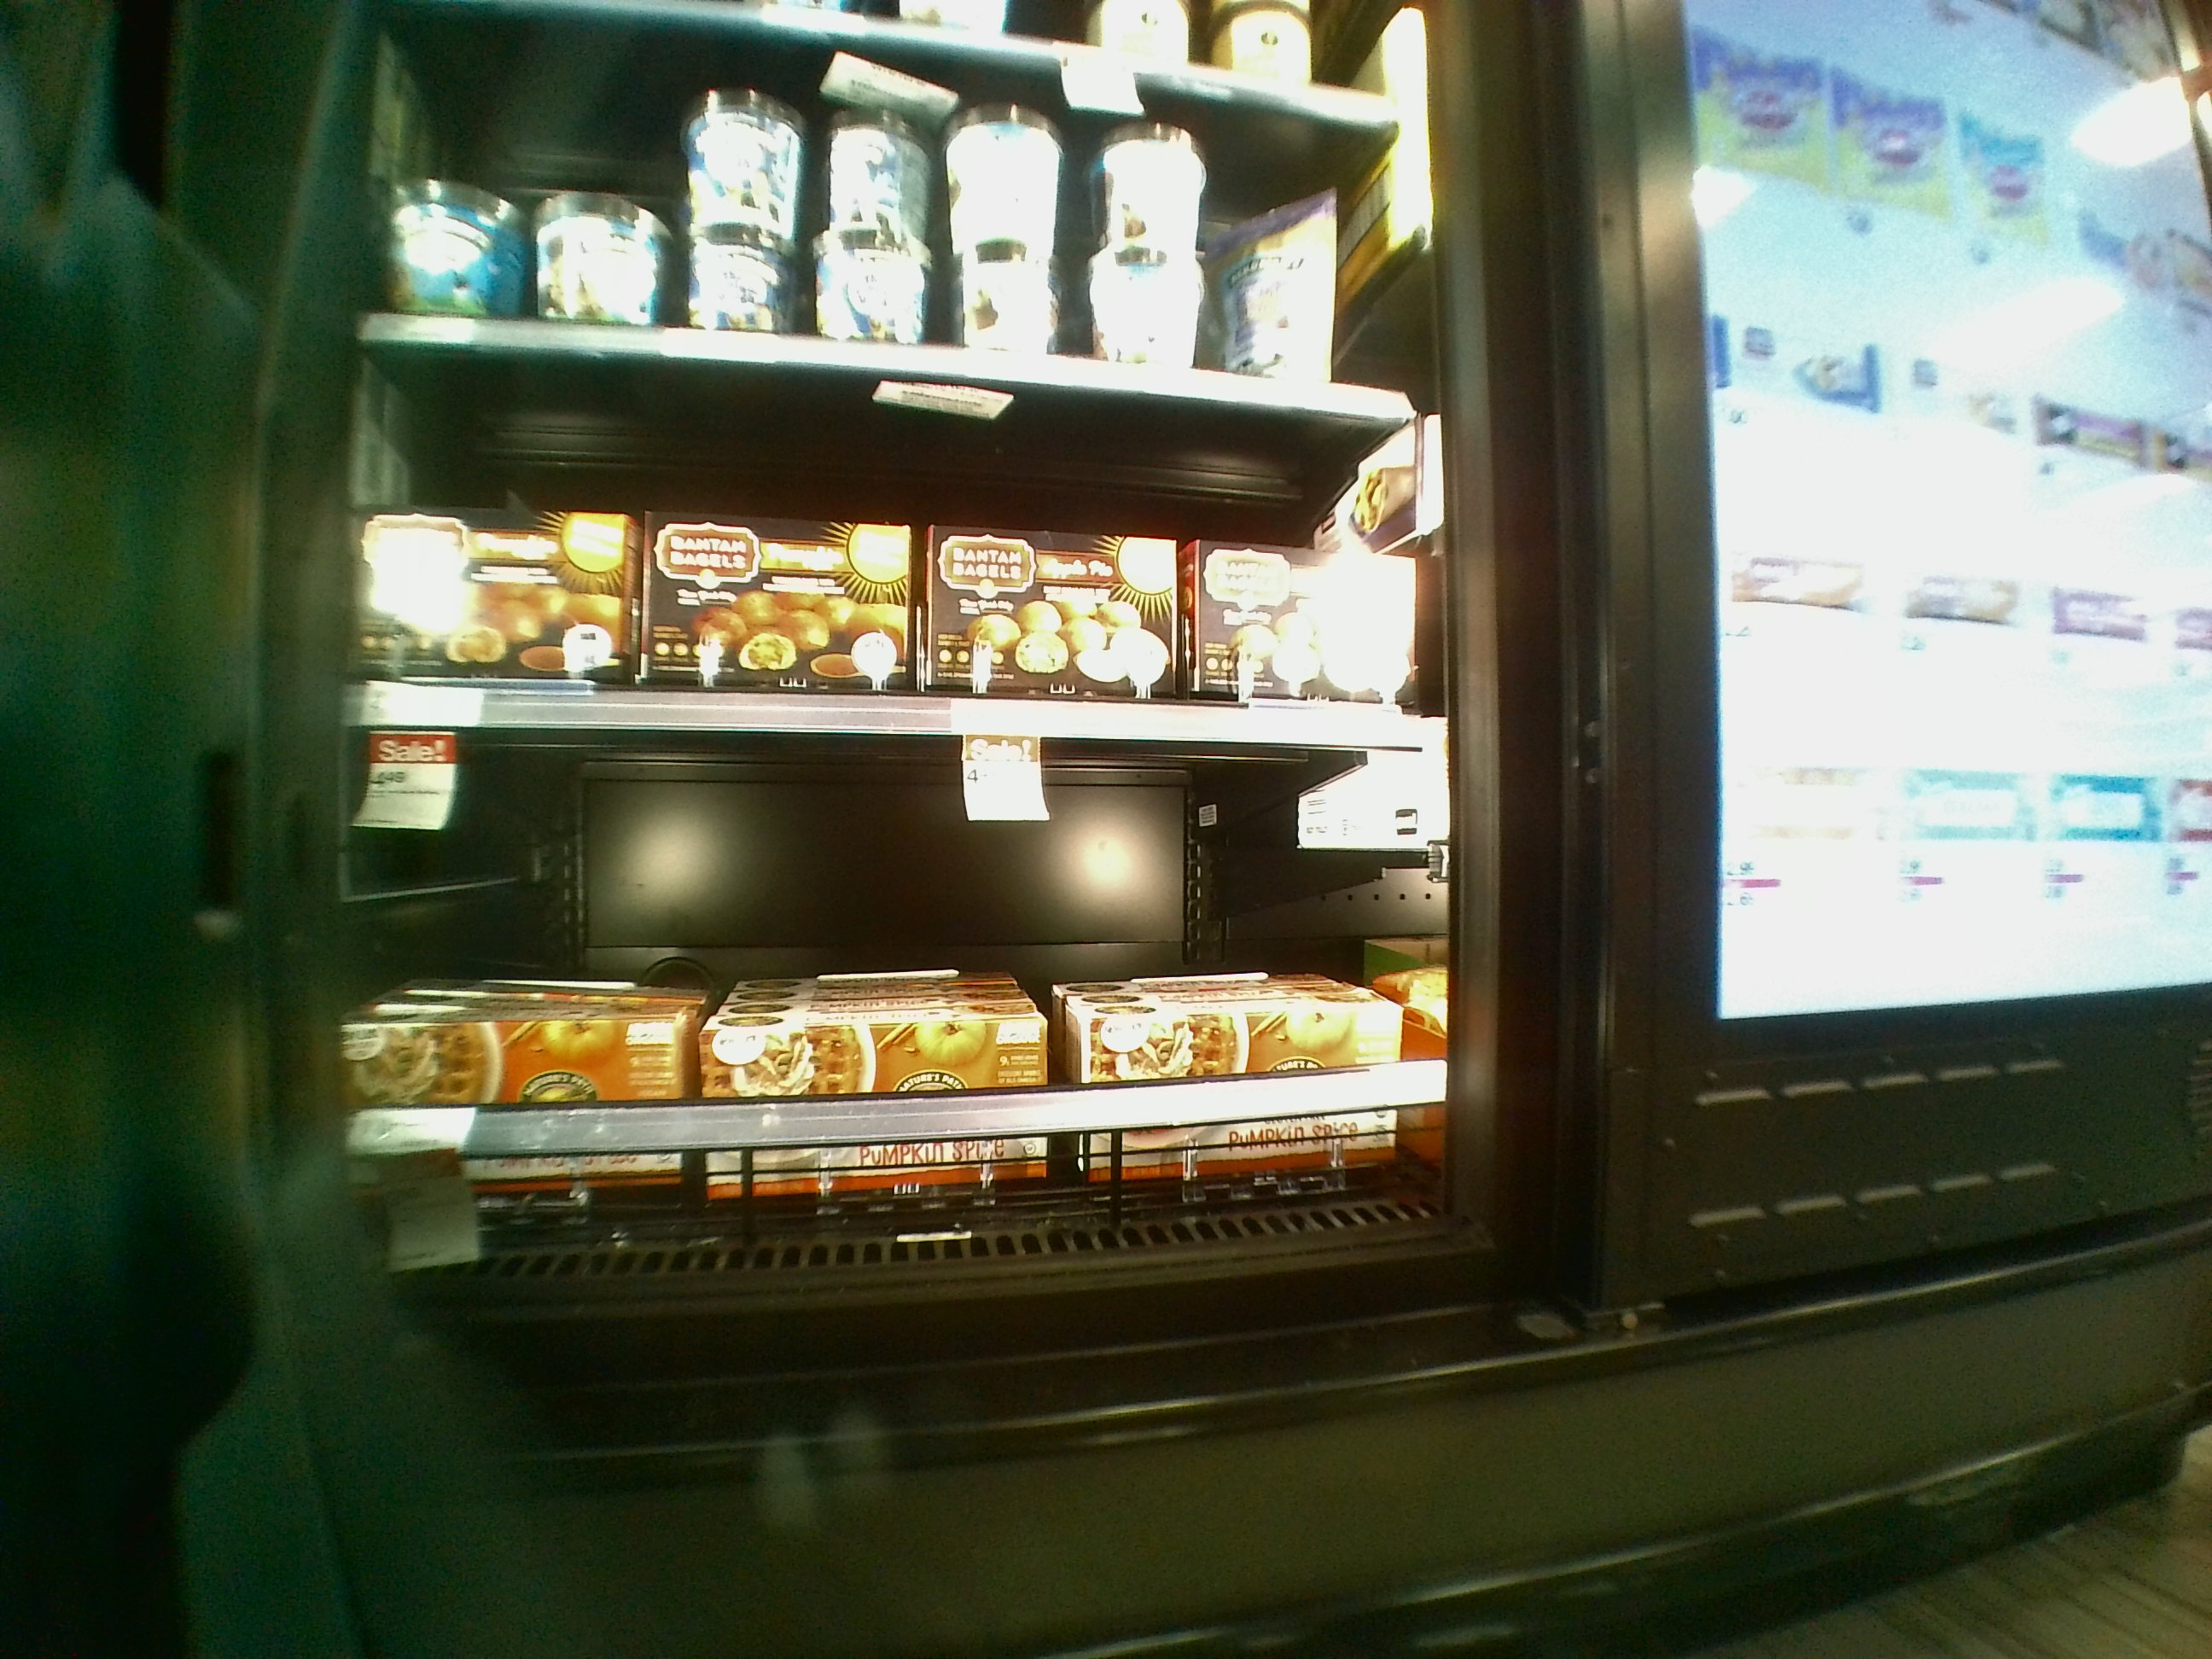shelf: (303, 701, 1527, 1277), (341, 326, 1456, 763)
